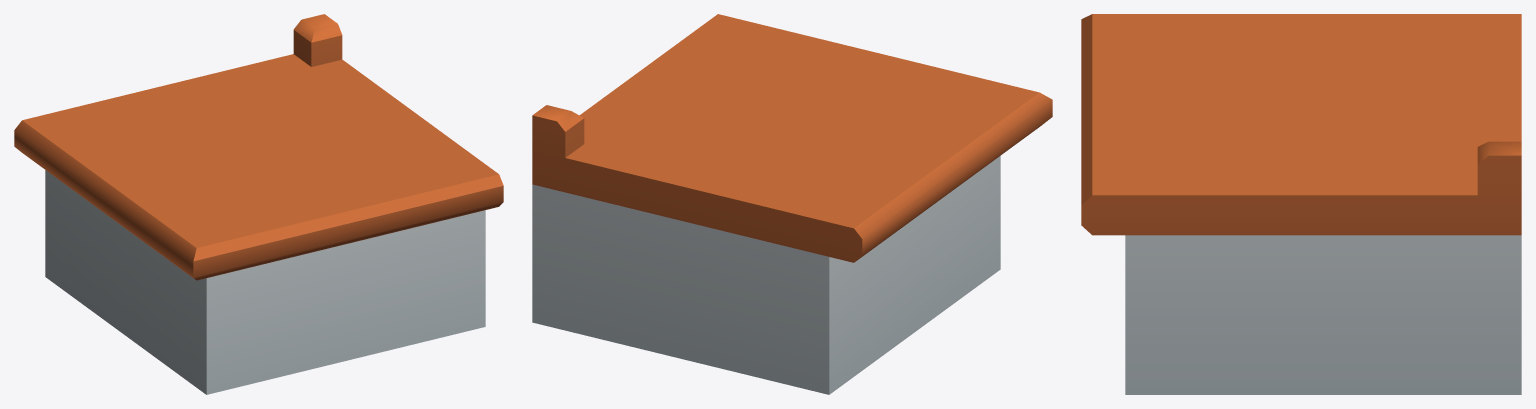
Rendered from kitchencounter_outercorner_backsplash.obj.
3 views of the same model, side by side, from view 1: azimuth 30°, elevation 25°; view 2: azimuth 150°, elevation 25°; view 3: azimuth 270°, elevation 25° (orthographic). The views are drawn at different scales.
Parts seen in each view (by area): view 1: kitchencounter_outercorner_backsplash_Cube.901; view 2: kitchencounter_outercorner_backsplash_Cube.901; view 3: kitchencounter_outercorner_backsplash_Cube.901.
Boxes of the visible parts, box(x1,y1,x2,y2) form: kitchencounter_outercorner_backsplash_Cube.901: box(14, 14, 503, 394); kitchencounter_outercorner_backsplash_Cube.901: box(532, 14, 1052, 394); kitchencounter_outercorner_backsplash_Cube.901: box(1081, 14, 1521, 394).
Size of the model in its own units: 2 by 1.2 by 2.
Materials: 1 (1 with a texture image).
